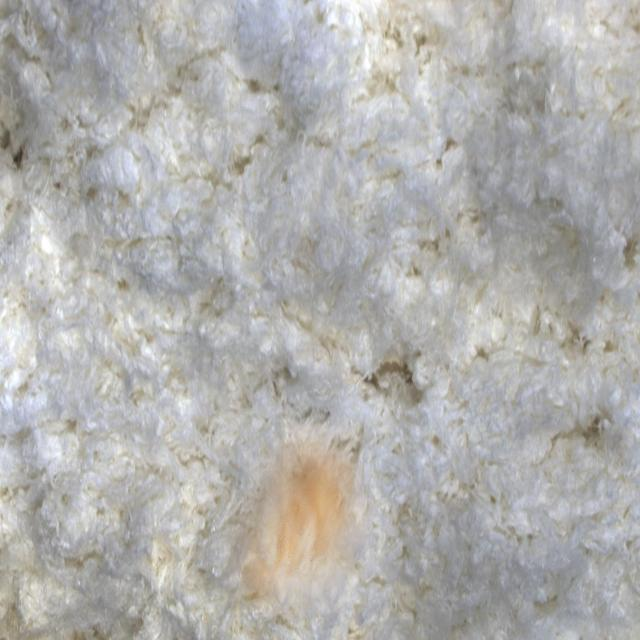dust: (223, 423, 379, 612)
